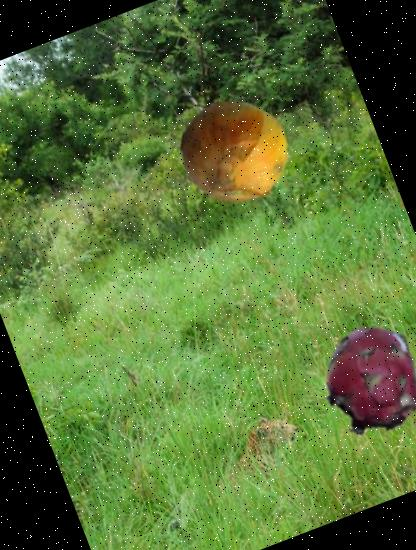Onion: (165, 82, 305, 222)
Pitahaya: (304, 310, 416, 450)
